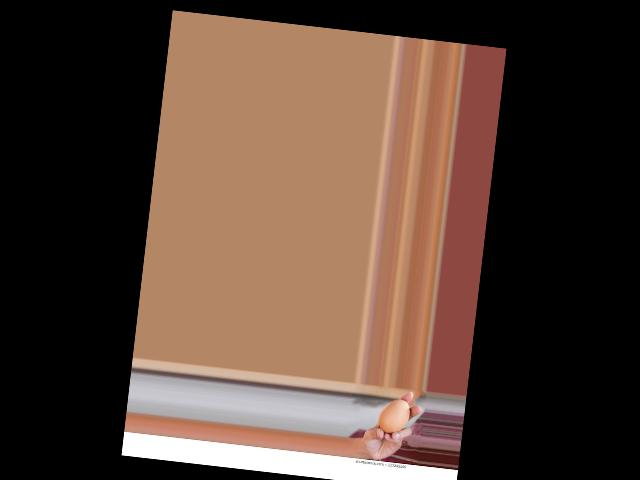egg: (378, 397, 412, 435)
